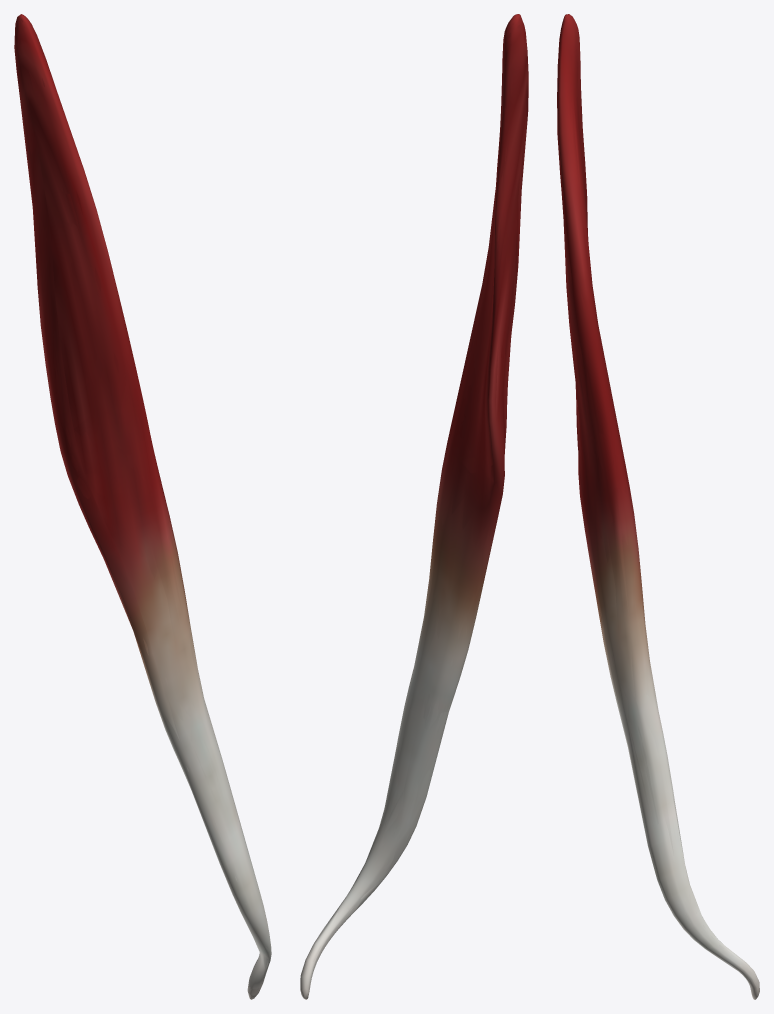
Rendered from R Abductor pollicis longus.fbx.
3 renders of one model, left to right at view 1: azimuth 30°, elevation 25°; view 2: azimuth 150°, elevation 25°; view 3: azimuth 330°, elevation 25°, orthographic. The views are drawn at different scales.
Parts seen in each view (by area): view 1: R Abductor pollicis longus, R Abductor pollicis longus low, R Abductor pollicis longus high; view 2: R Abductor pollicis longus, R Abductor pollicis longus low, R Abductor pollicis longus high; view 3: R Abductor pollicis longus, R Abductor pollicis longus low, R Abductor pollicis longus high.
Boxes of the visible parts, x1,y1,x2,y2 form: R Abductor pollicis longus: (14,14,271,999); R Abductor pollicis longus low: (14,14,269,997); R Abductor pollicis longus high: (15,17,268,997); R Abductor pollicis longus: (300,14,528,999); R Abductor pollicis longus low: (306,14,528,998); R Abductor pollicis longus high: (301,17,527,999); R Abductor pollicis longus: (557,14,759,999); R Abductor pollicis longus low: (557,14,757,986); R Abductor pollicis longus high: (558,16,759,996).
Size of the model in its own units: 1.43 by 6.08 by 0.7038.
1 material, 1 textured.
